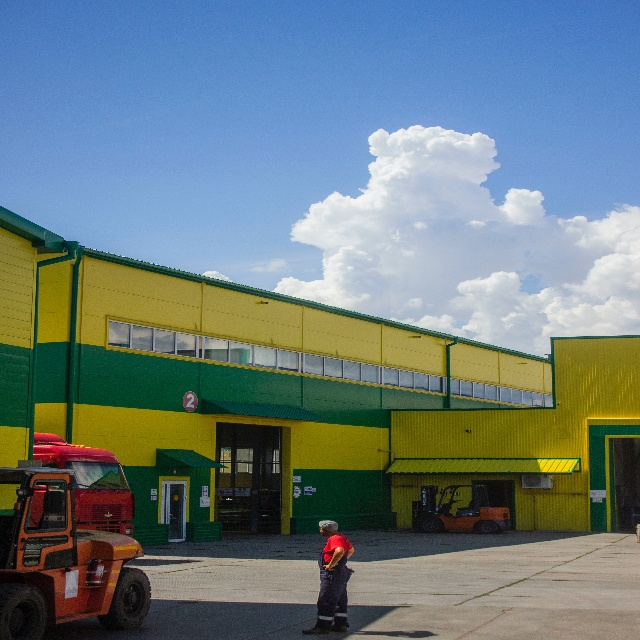Sin_guantes: (323, 562, 338, 572)
